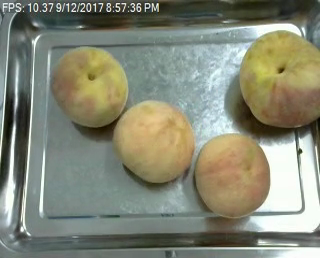Peach: (238, 28, 319, 127), (114, 100, 195, 183), (195, 132, 272, 218), (50, 45, 129, 128)
